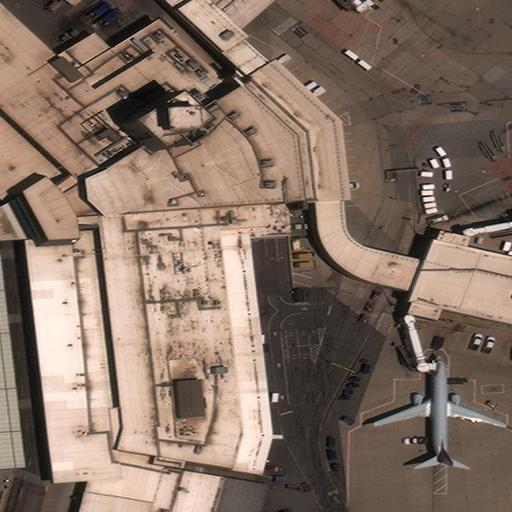Medium Civil Transport: (374, 354, 505, 466)
